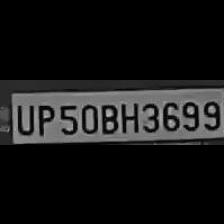0: (78, 100, 98, 134)
3: (140, 98, 158, 132)
5: (55, 100, 77, 134)
6: (159, 97, 179, 130)
9: (179, 96, 199, 130), (200, 96, 220, 130)
B: (98, 99, 118, 133)
H: (118, 99, 140, 133)
P: (32, 99, 54, 135)
U: (12, 100, 34, 134)
